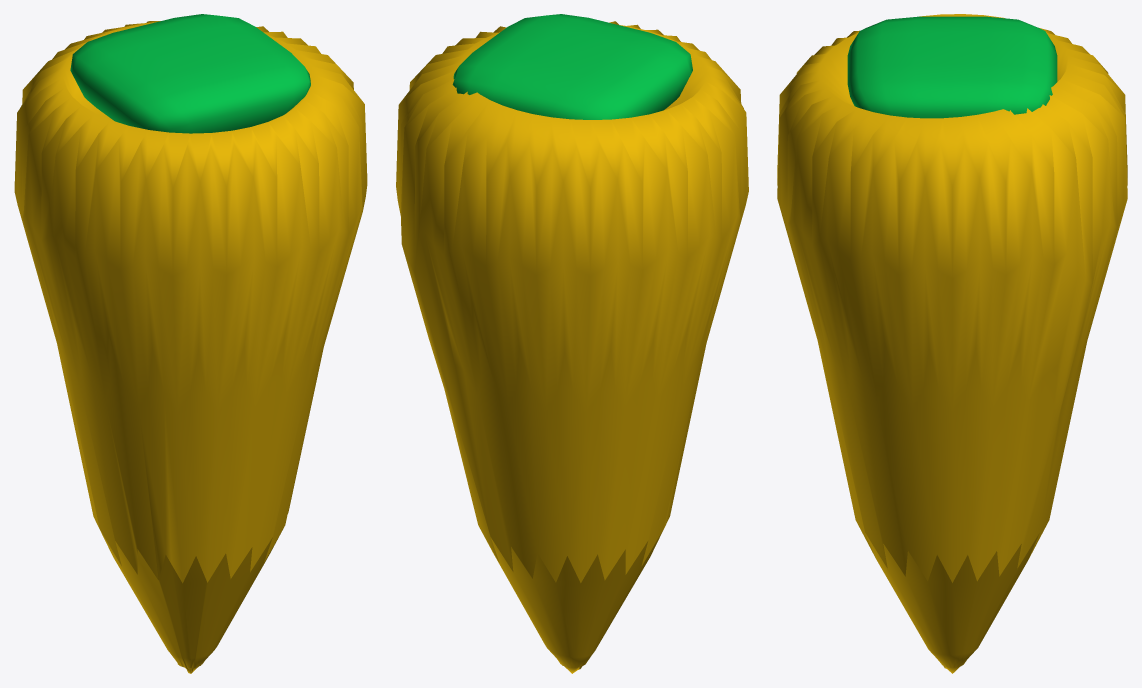
Rendered from ninjin.fbx.
The picture shows the model from 3 angles, left to right: view 1: azimuth 30°, elevation 25°; view 2: azimuth 150°, elevation 25°; view 3: azimuth 270°, elevation 25°; orthographic projection.
Parts seen in each view (by area): view 1: polySurface1; view 2: polySurface1; view 3: polySurface1.
Boxes of the visible parts, <box> form: polySurface1: <box>14,14,367,673</box>; polySurface1: <box>396,14,748,673</box>; polySurface1: <box>777,14,1127,673</box>.
Size of the model in its own units: 2.5 by 4.91 by 2.5.
